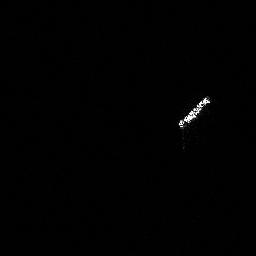ship: (177, 97, 211, 127)
